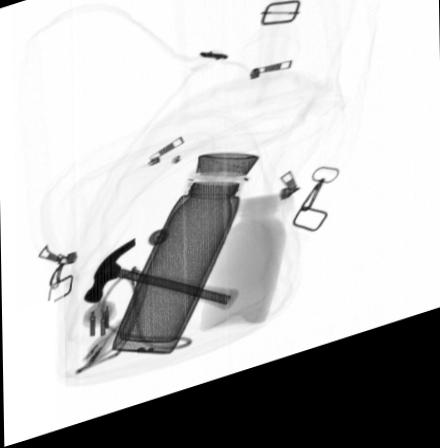Hammer: (81, 244, 240, 325)
